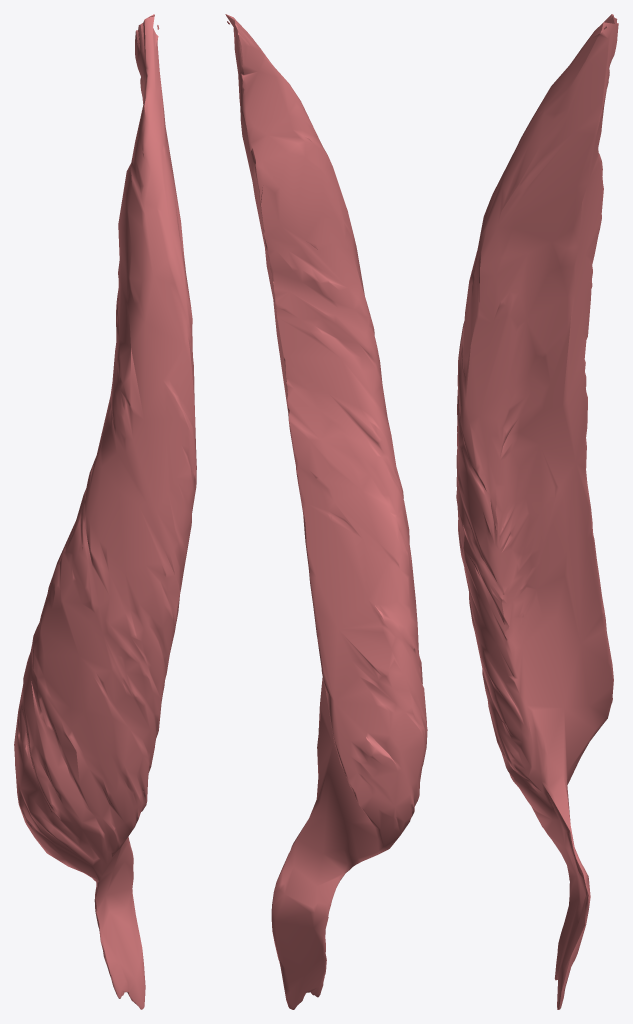
3 renders of one model, left to right at view 1: azimuth 30°, elevation 25°; view 2: azimuth 150°, elevation 25°; view 3: azimuth 270°, elevation 25°, orthographic. The views are drawn at different scales.
Parts seen in each view (by area): view 1: FJ1443M; view 2: FJ1443M; view 3: FJ1443M.
Part boxes in pixels (x1=…): FJ1443M: x1=14, y1=14, x2=196, y2=1009; FJ1443M: x1=225, y1=14, x2=427, y2=1009; FJ1443M: x1=456, y1=14, x2=618, y2=1009.
Bounding box in the file's own units: 0.0703 × 0.3955 × 0.0575.
